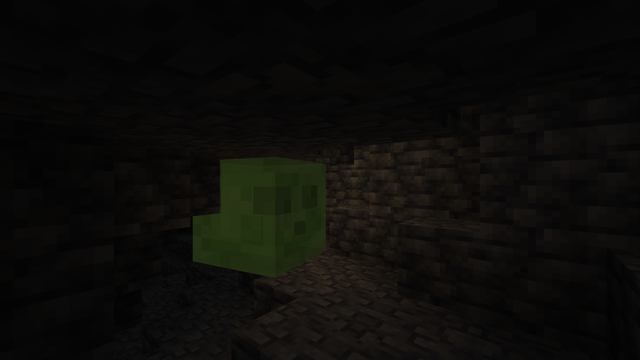slimes: (194, 157, 331, 281)
